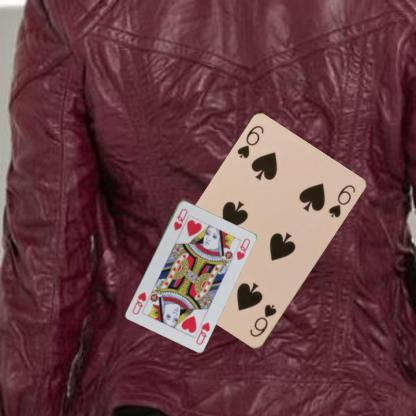6s: (234, 122, 265, 160), (247, 302, 278, 339)
Qh: (171, 206, 189, 232), (193, 320, 211, 346)
